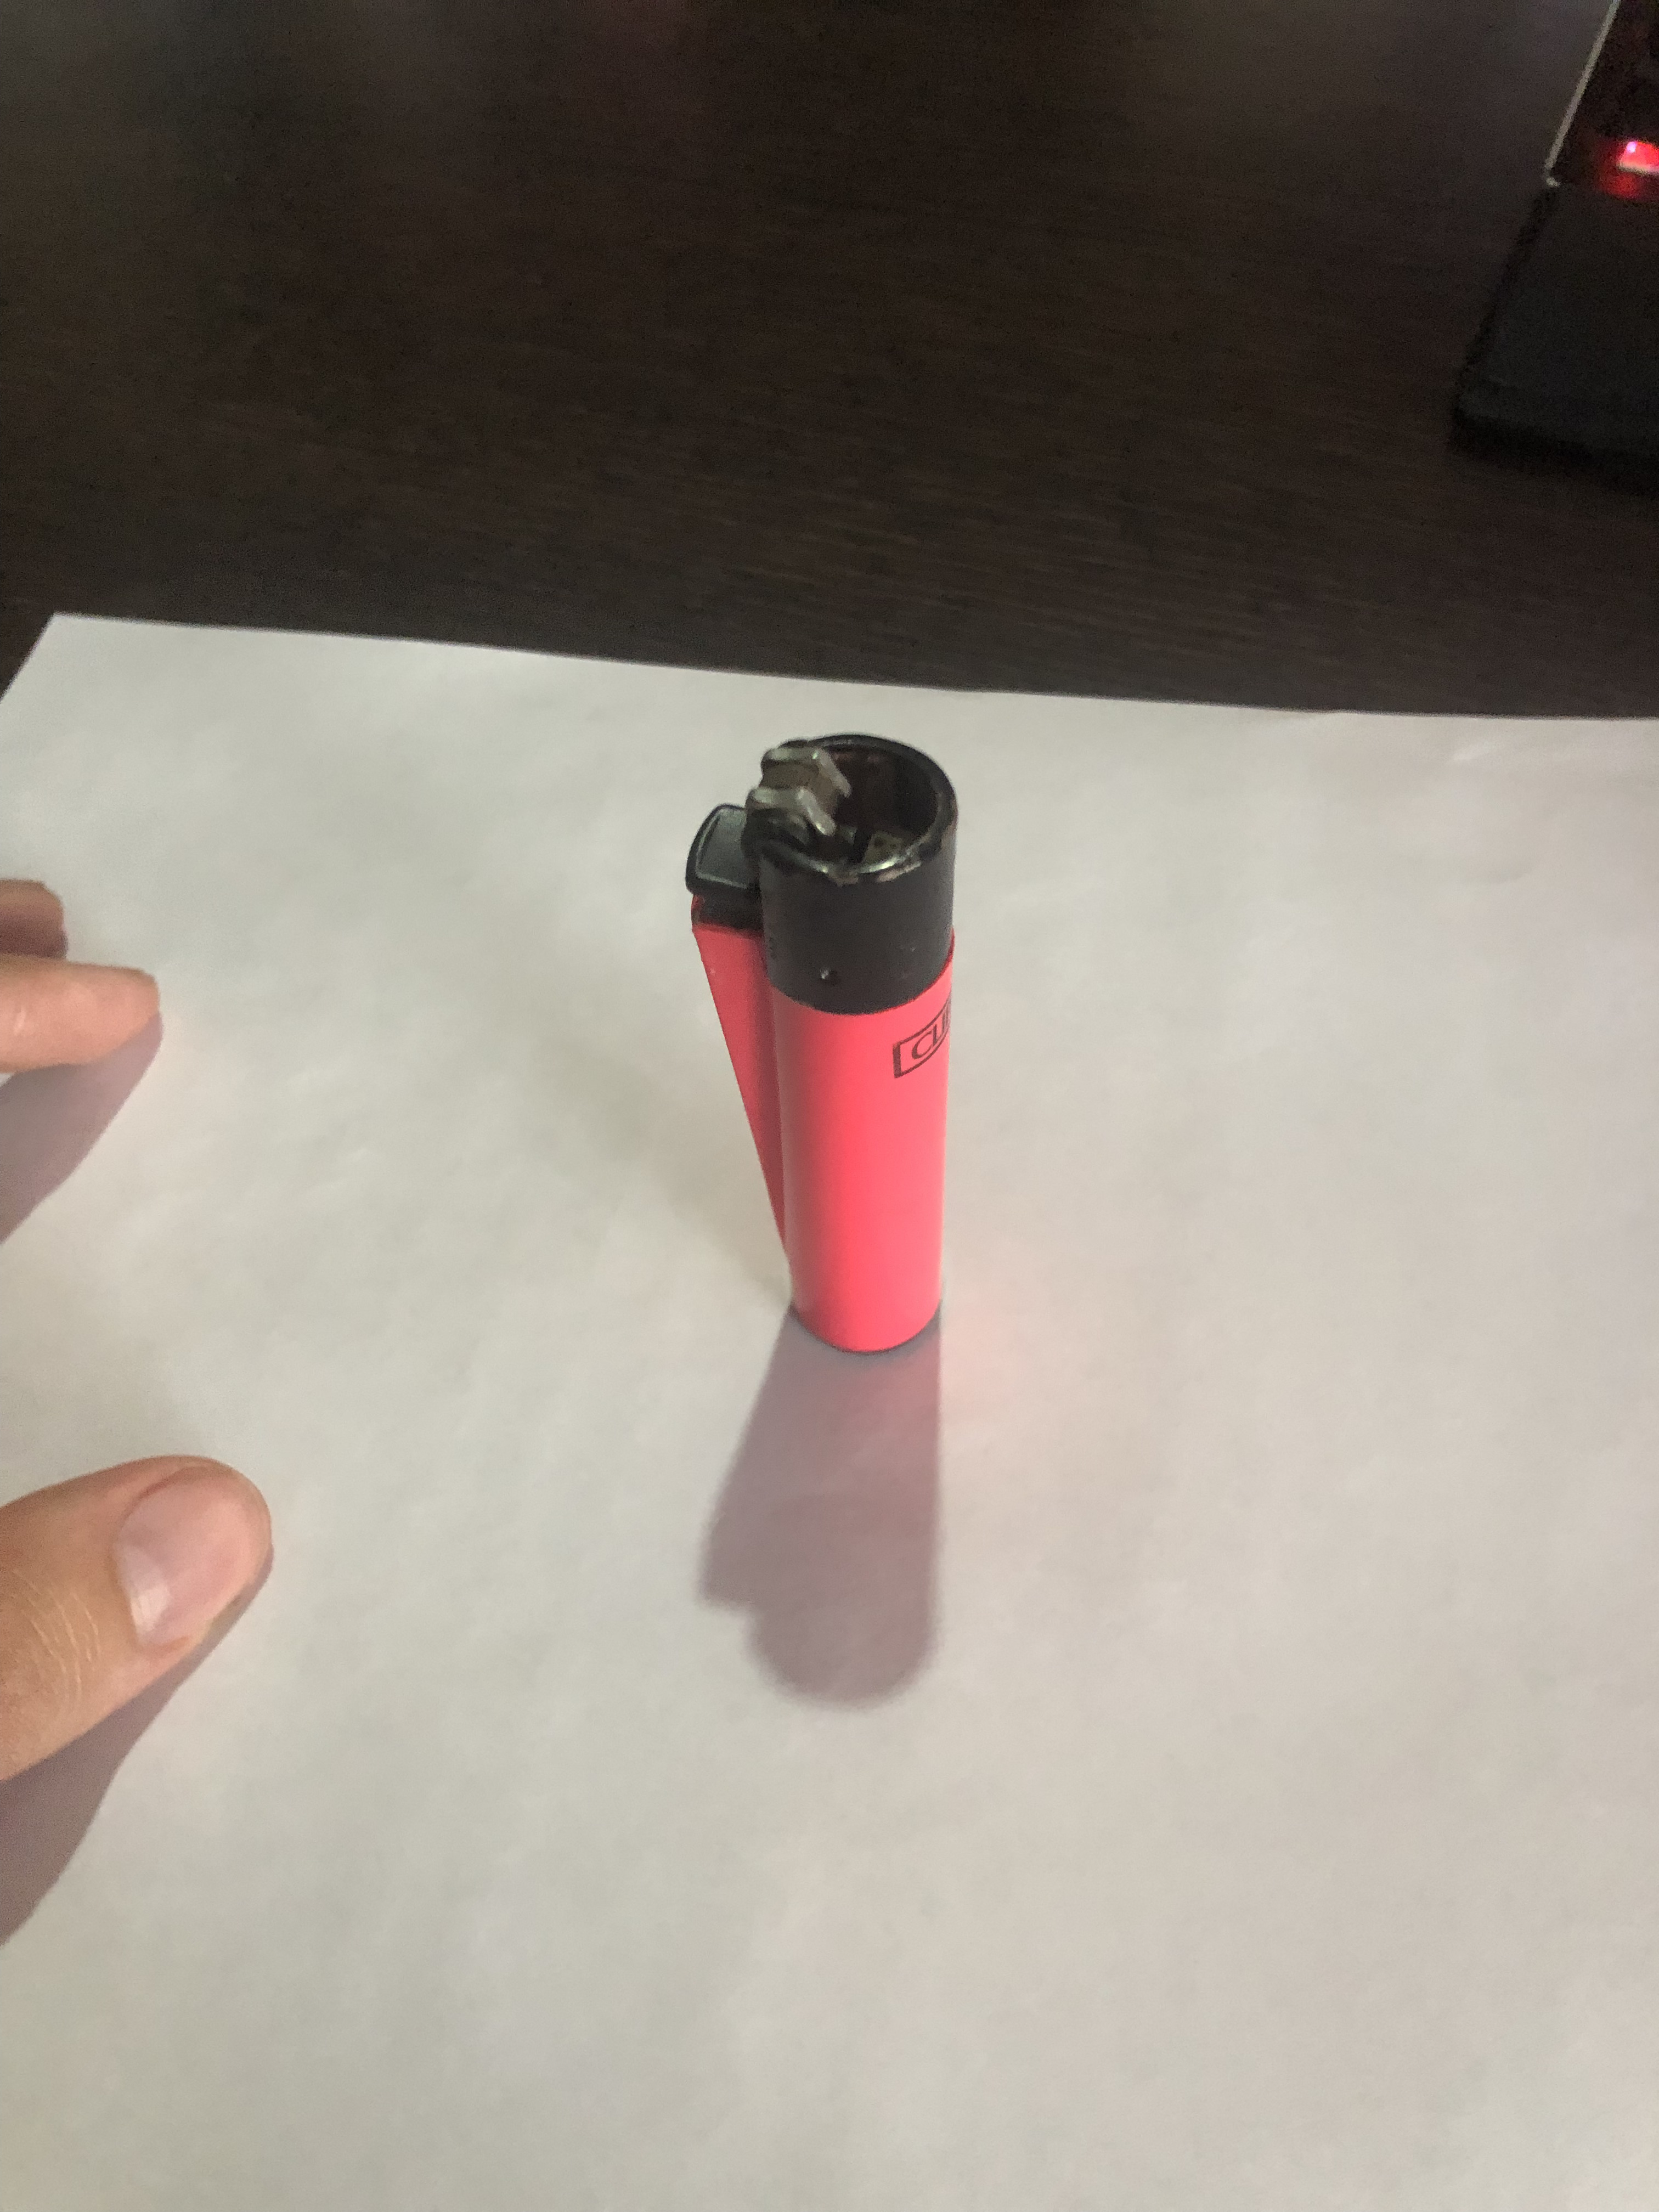Mechero: (674, 719, 983, 1369)
